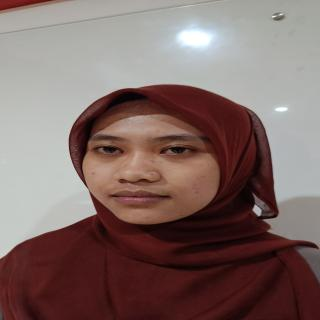Netral: (78, 97, 231, 228)
